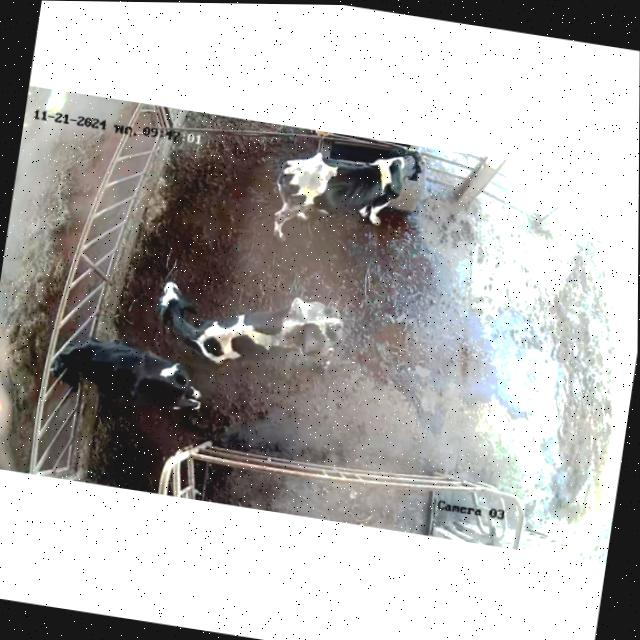stand: (260, 128, 454, 265), (146, 274, 360, 384)
